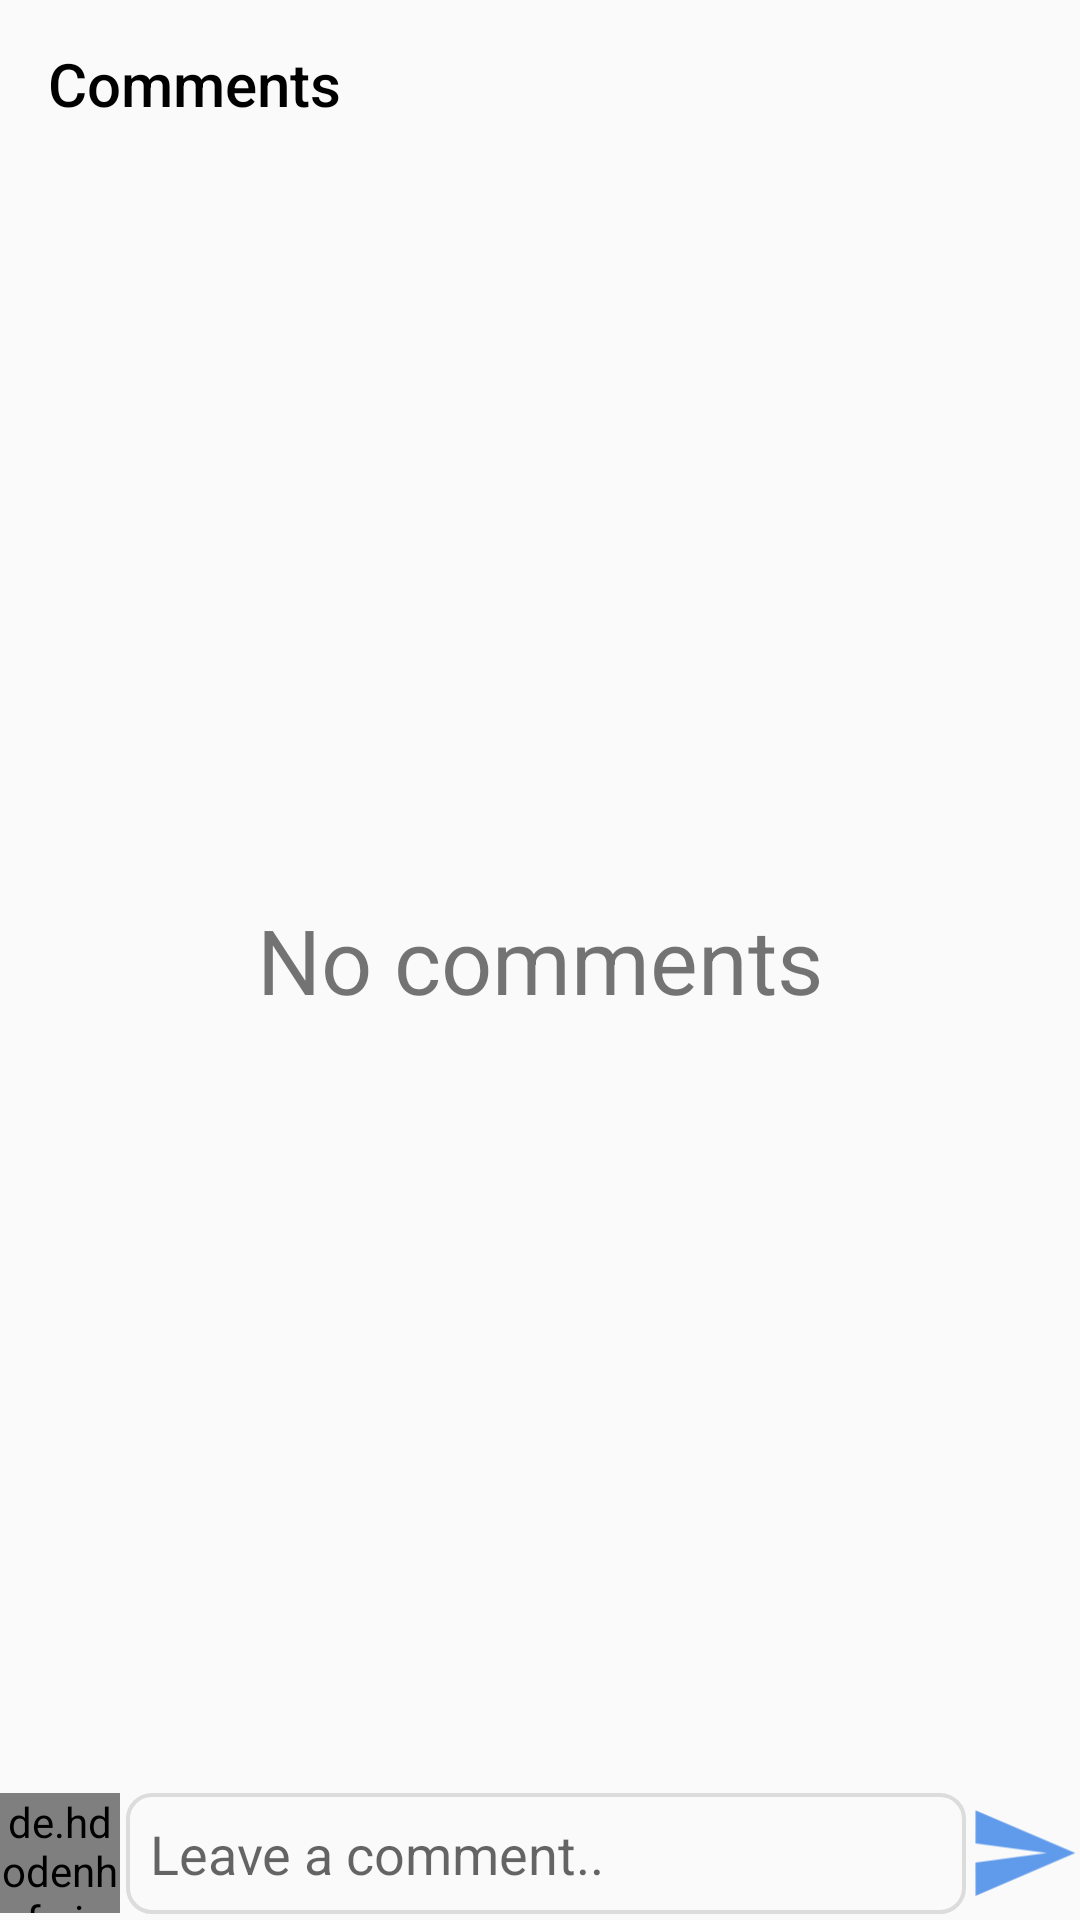

Icon bounding boxes for this 1080x1920 phone screenshot, format (x1, y1, x2, y2):
send: (975, 1810, 1075, 1896)
